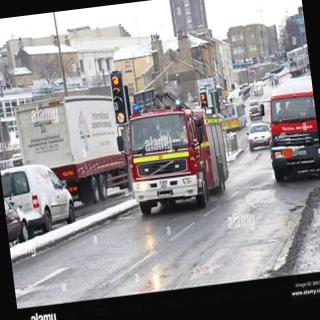Fire_truck: (114, 80, 232, 216), (261, 88, 320, 183)
